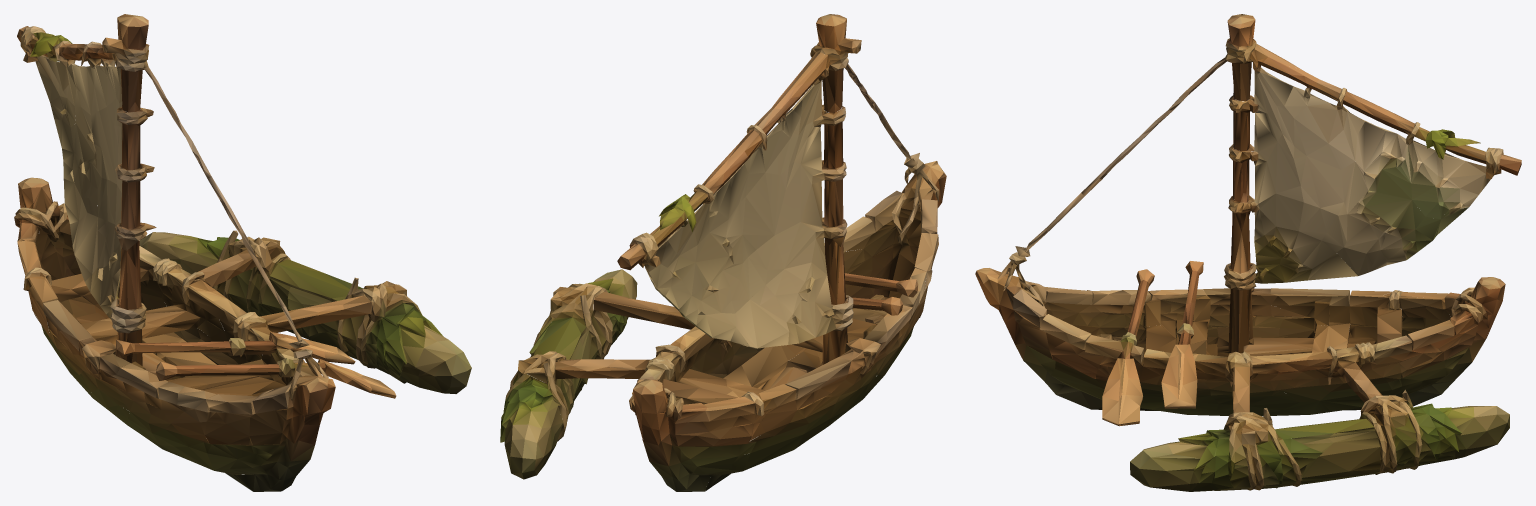
Rendered from building-boat.glb.
3 views of the same model, side by side, from view 1: azimuth 30°, elevation 25°; view 2: azimuth 150°, elevation 25°; view 3: azimuth 270°, elevation 25° (orthographic). The views are drawn at different scales.
Visible parts, largest first — view 1: 0_boat; view 2: 0_boat; view 3: 0_boat.
Boxes of the visible parts, box(x1,y1,x2,y2) form: 0_boat: box(14, 14, 471, 491); 0_boat: box(500, 14, 946, 491); 0_boat: box(975, 14, 1521, 491).
Bounding box in the file's own units: 3.56 × 4.33 × 5.76.
